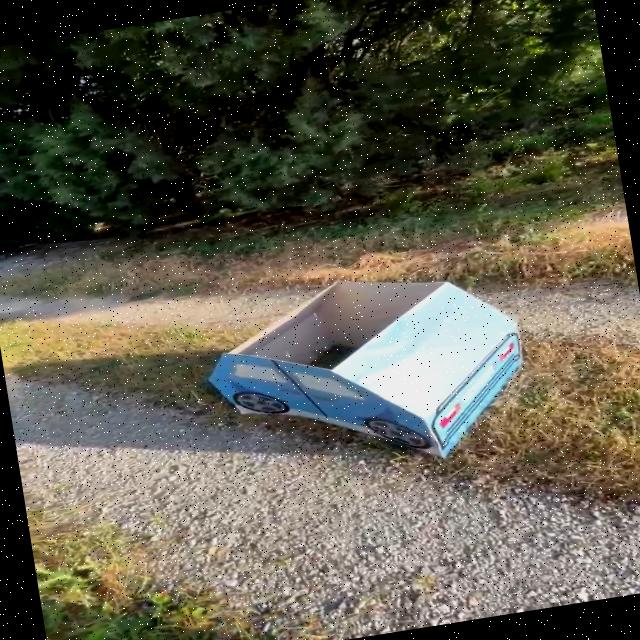blue_car: (133, 219, 604, 510)
